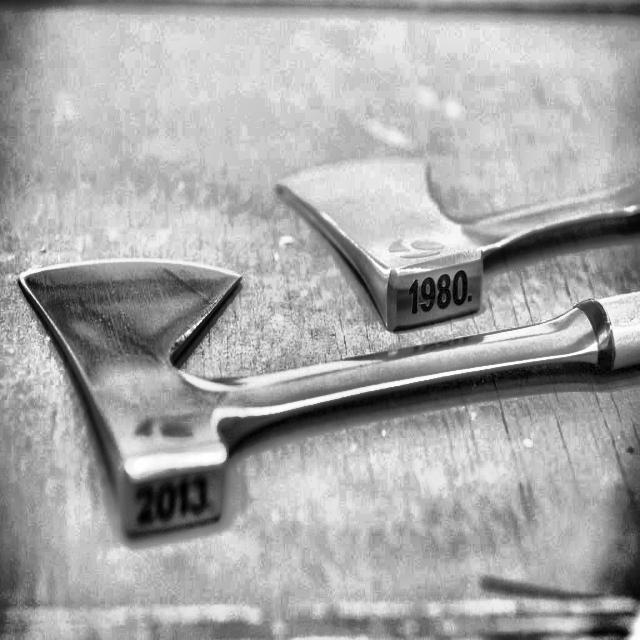kapak: (9, 248, 639, 552)
